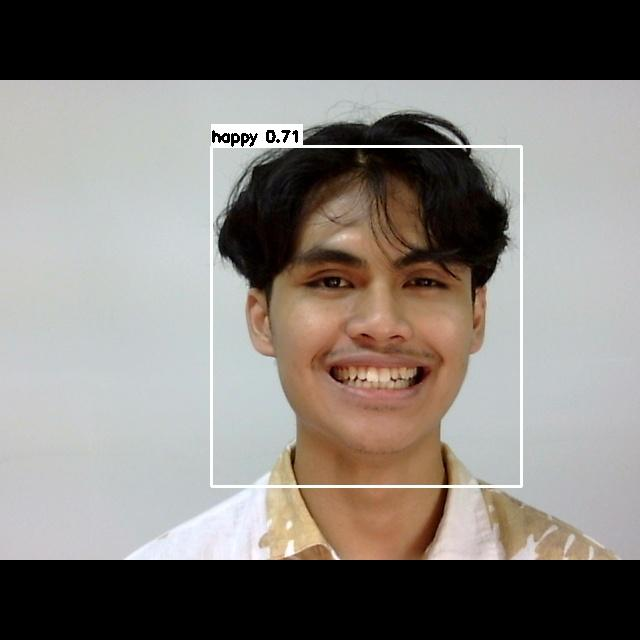Happy: (271, 229, 481, 426)
